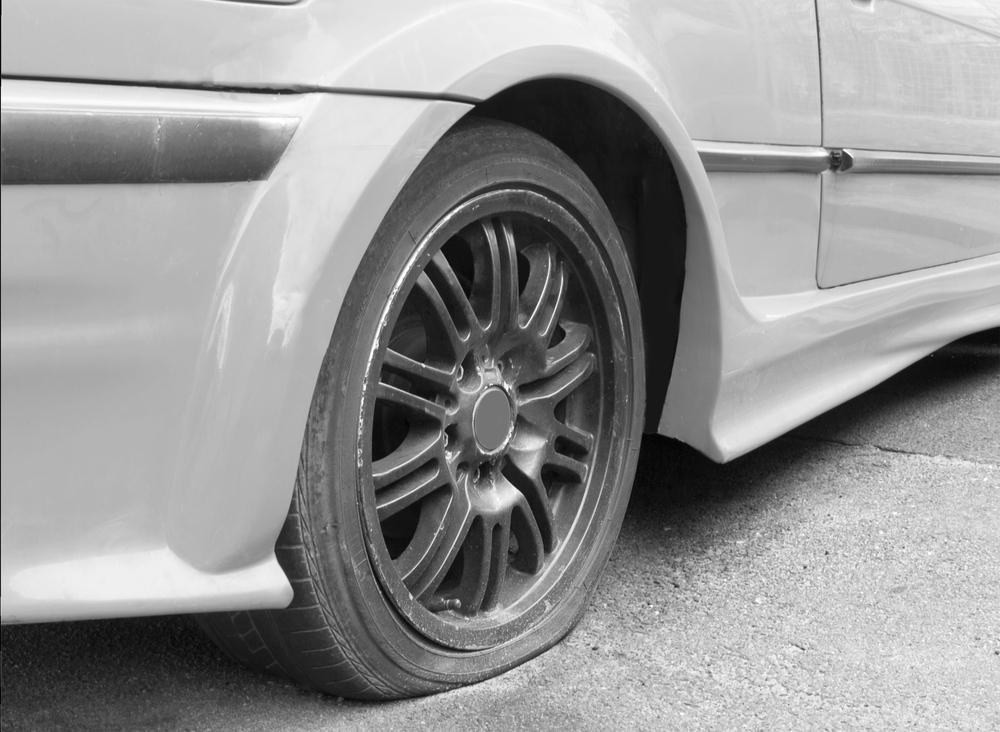tire flat: (218, 125, 643, 699)
